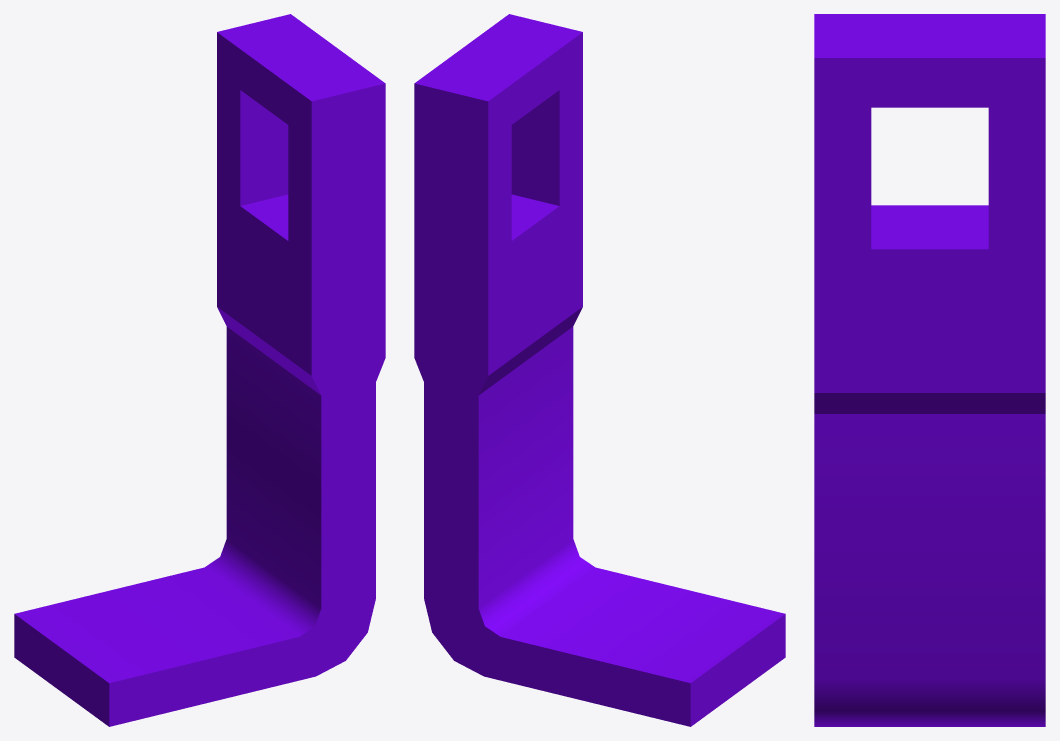
File: Ground_Hammer_Socket_08.fbx
3 views of the same model, side by side, from view 1: azimuth 30°, elevation 25°; view 2: azimuth 150°, elevation 25°; view 3: azimuth 270°, elevation 25° (orthographic). The views are drawn at different scales.
Parts seen in each view (by area): view 1: Obstacle_Ground_Hammer_Socket_08; view 2: Obstacle_Ground_Hammer_Socket_08; view 3: Obstacle_Ground_Hammer_Socket_08.
Part boxes in pixels (x1,y1,x2,y2): Obstacle_Ground_Hammer_Socket_08: [14, 14, 385, 726]; Obstacle_Ground_Hammer_Socket_08: [414, 14, 785, 726]; Obstacle_Ground_Hammer_Socket_08: [814, 14, 1045, 726].
Bounding box in the file's own units: 123 × 246 × 73.33.
1 material, 1 textured.
